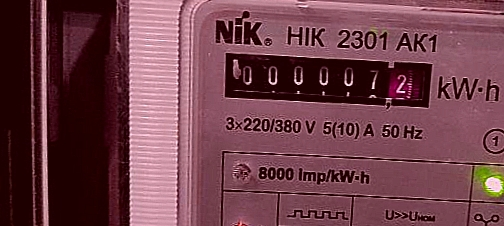0: (317, 66, 333, 90), (240, 64, 255, 88), (342, 66, 357, 90), (292, 65, 306, 89), (266, 65, 280, 88)
2: (395, 74, 409, 98)
7: (368, 68, 381, 93)
screen: (213, 41, 443, 122)
